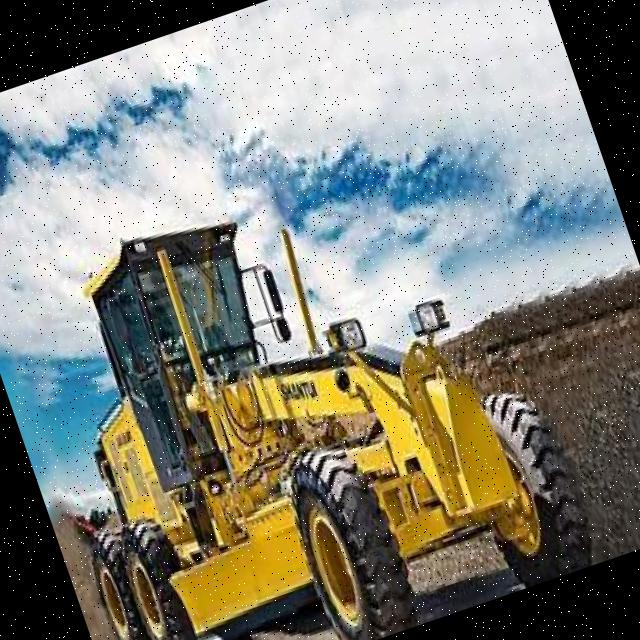Grader: (0, 119, 596, 640)
